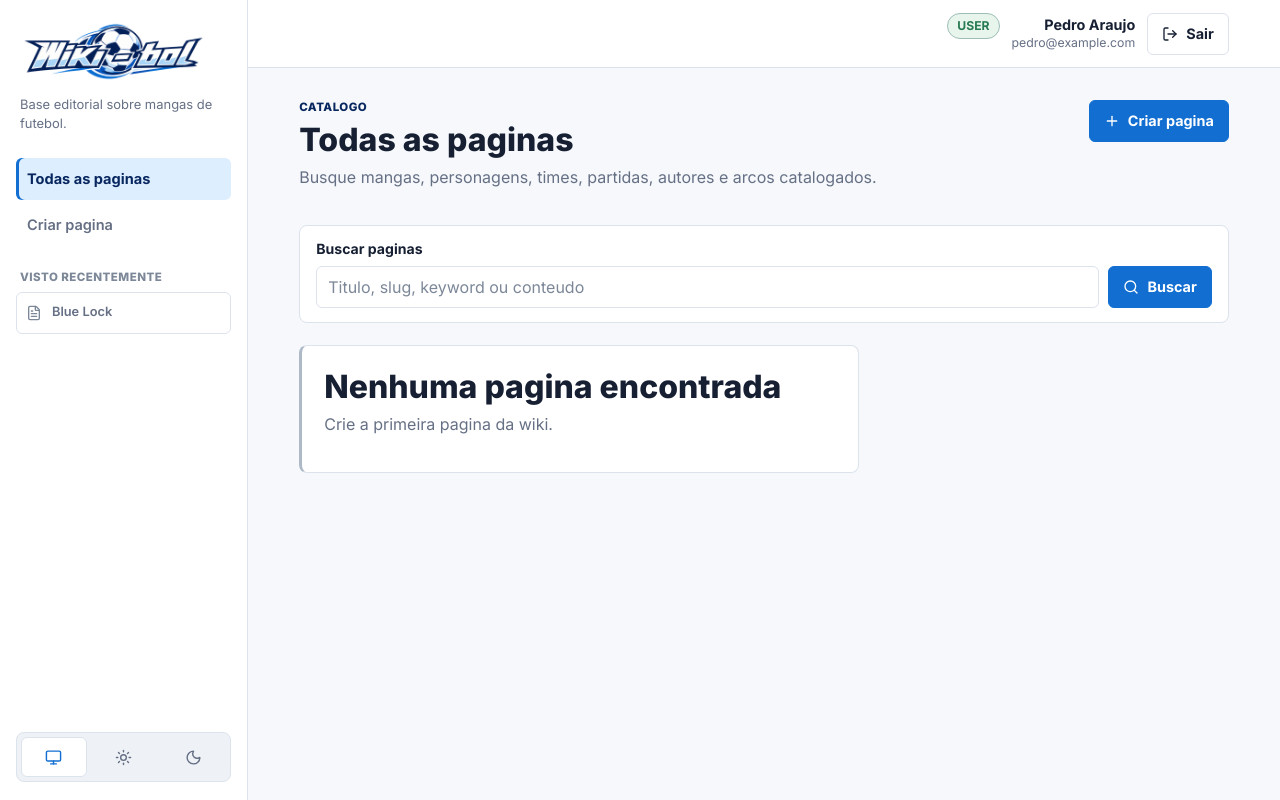
Scenario: Wiki-bol frontend › uses separate recent lists for an authenticated user and the guest after logout
Check: the link "Blue Lock" is shown, box [16, 292, 231, 334]
Check: the link "Ao Ashi" is not shown
Click the button "Sair" at (1188, 34), box [1147, 12, 1229, 54]
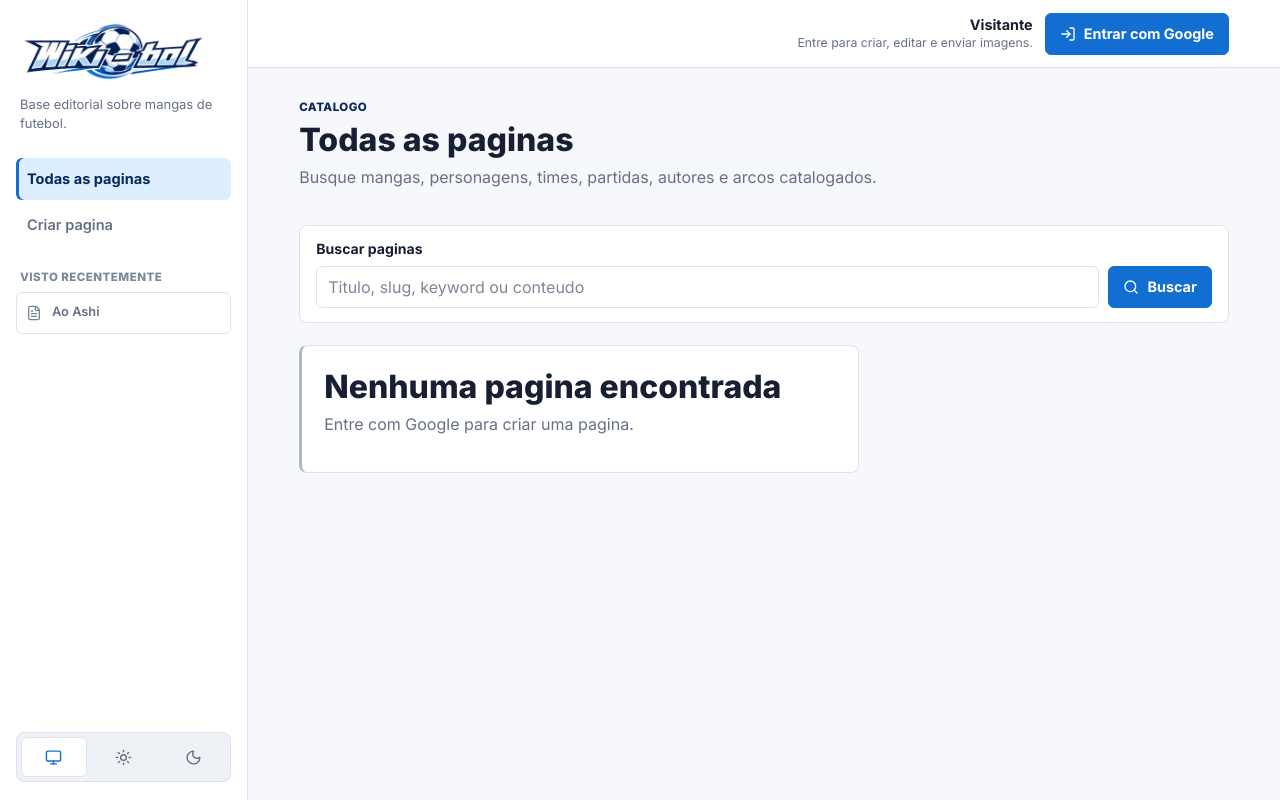
Check: the link "Ao Ashi" is shown, box [16, 292, 231, 334]
Check: the link "Blue Lock" is gone
